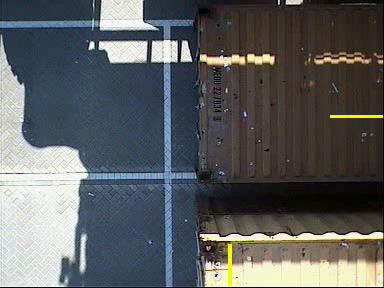groundmarker_2: (46, 61, 140, 135)
